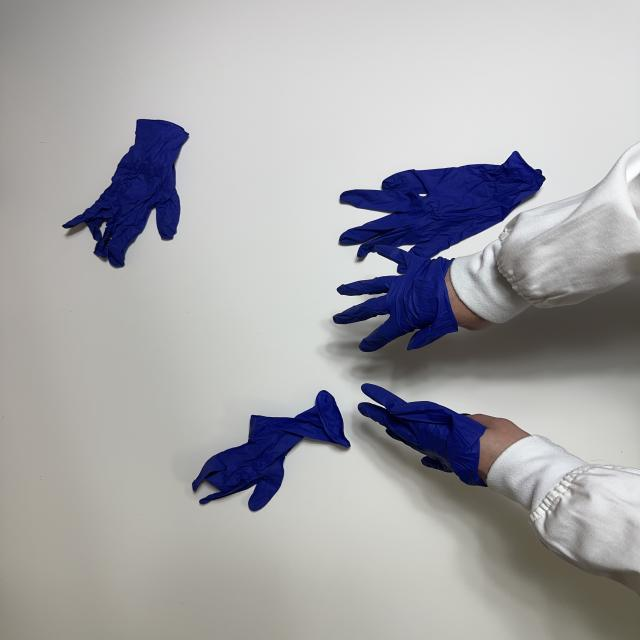glove_partial: (359, 381, 530, 486), (336, 258, 493, 354)
